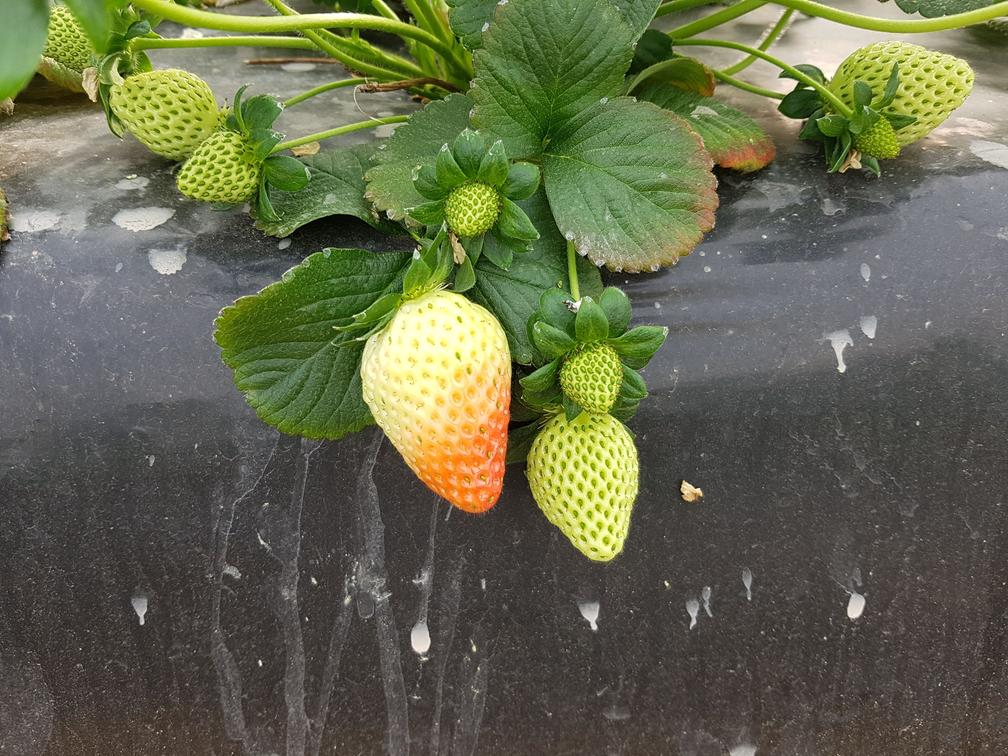Unripe: (356, 290, 517, 525), (524, 411, 647, 569), (828, 38, 976, 161), (101, 72, 226, 156), (172, 132, 260, 207), (558, 342, 628, 413), (445, 181, 503, 236)
